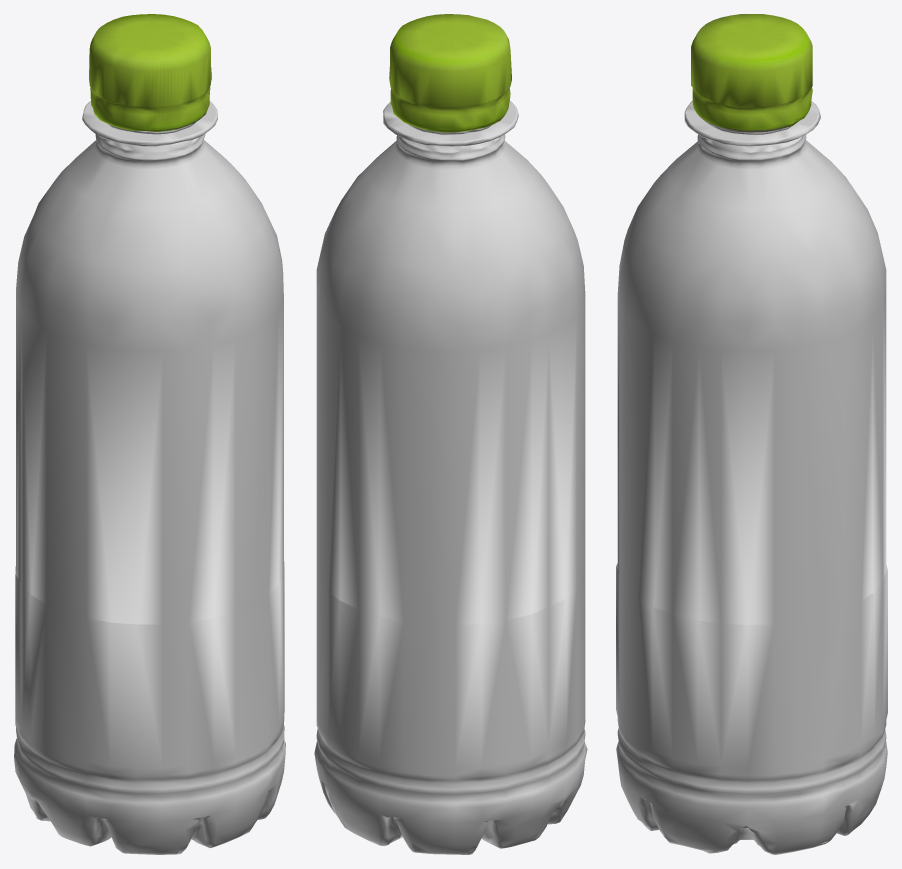
Rendered from ilohas-old-2.glb.
3 renders of one model, left to right at view 1: azimuth 30°, elevation 25°; view 2: azimuth 150°, elevation 25°; view 3: azimuth 270°, elevation 25°, orthographic.
Visible parts, largest first — view 1: tripo_node_b734b57c-cd64-4b99-a8d9-996625f41cd7, tripo_node_b734b57c-cd64-4b99-a8d9-996625f41cd7.001; view 2: tripo_node_b734b57c-cd64-4b99-a8d9-996625f41cd7, tripo_node_b734b57c-cd64-4b99-a8d9-996625f41cd7.001; view 3: tripo_node_b734b57c-cd64-4b99-a8d9-996625f41cd7, tripo_node_b734b57c-cd64-4b99-a8d9-996625f41cd7.001.
Boxes of the visible parts, x1,y1,x2,y2 form: tripo_node_b734b57c-cd64-4b99-a8d9-996625f41cd7: (14,100,285,854); tripo_node_b734b57c-cd64-4b99-a8d9-996625f41cd7.001: (89,14,211,131); tripo_node_b734b57c-cd64-4b99-a8d9-996625f41cd7: (314,101,587,854); tripo_node_b734b57c-cd64-4b99-a8d9-996625f41cd7.001: (389,14,511,132); tripo_node_b734b57c-cd64-4b99-a8d9-996625f41cd7: (616,101,887,854); tripo_node_b734b57c-cd64-4b99-a8d9-996625f41cd7.001: (691,14,812,132).
Bounding box in the file's own units: 0.3183 × 0.9973 × 0.3183.
Materials: 2 (1 with a texture image).
